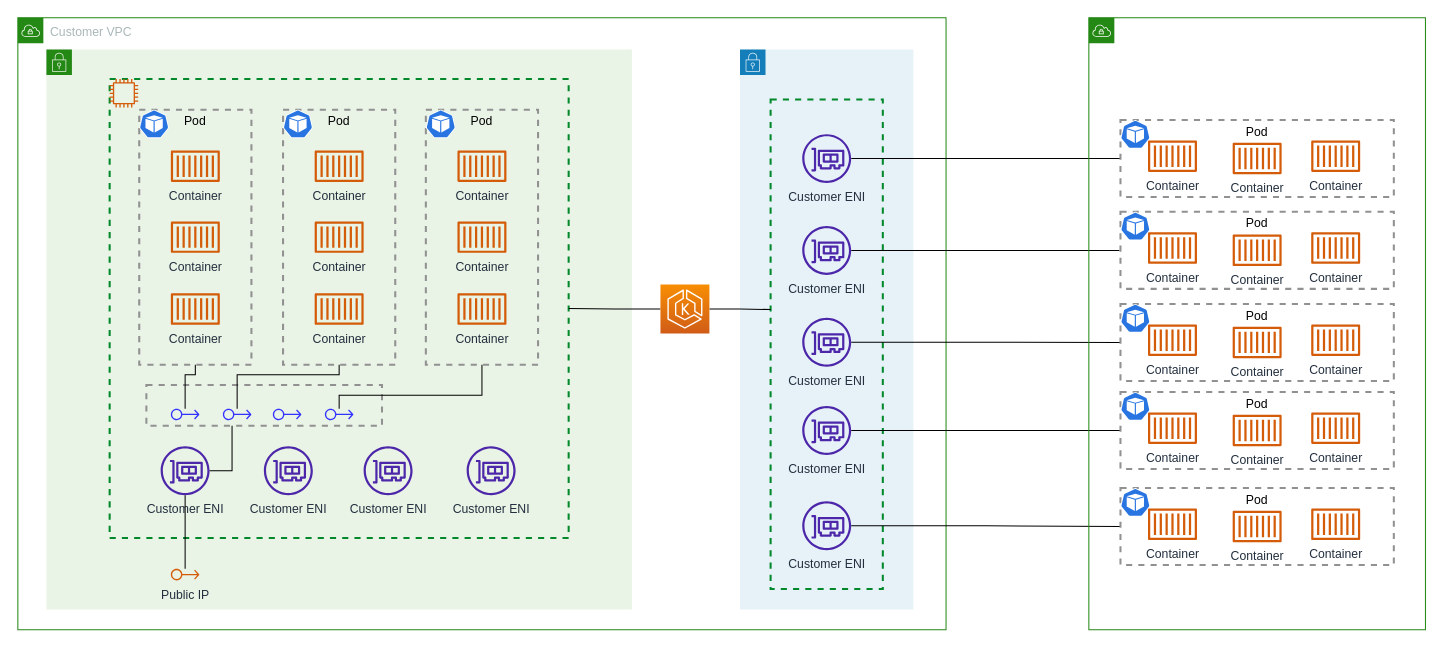
Image size: 1443x648. Some labels were removed from this diagram. The box of each missing label's shape, as (x1, y1, x2, y2) in pixels:
EC2 Instance: (108, 78, 569, 539)
EKS: (659, 284, 709, 334)
Fargate ENI: (769, 98, 883, 590)
Fargate VPC: (1088, 17, 1425, 630)
Private IP: (145, 384, 382, 426)
Private subnet: (739, 48, 913, 609)
Public subnet: (45, 48, 632, 609)
